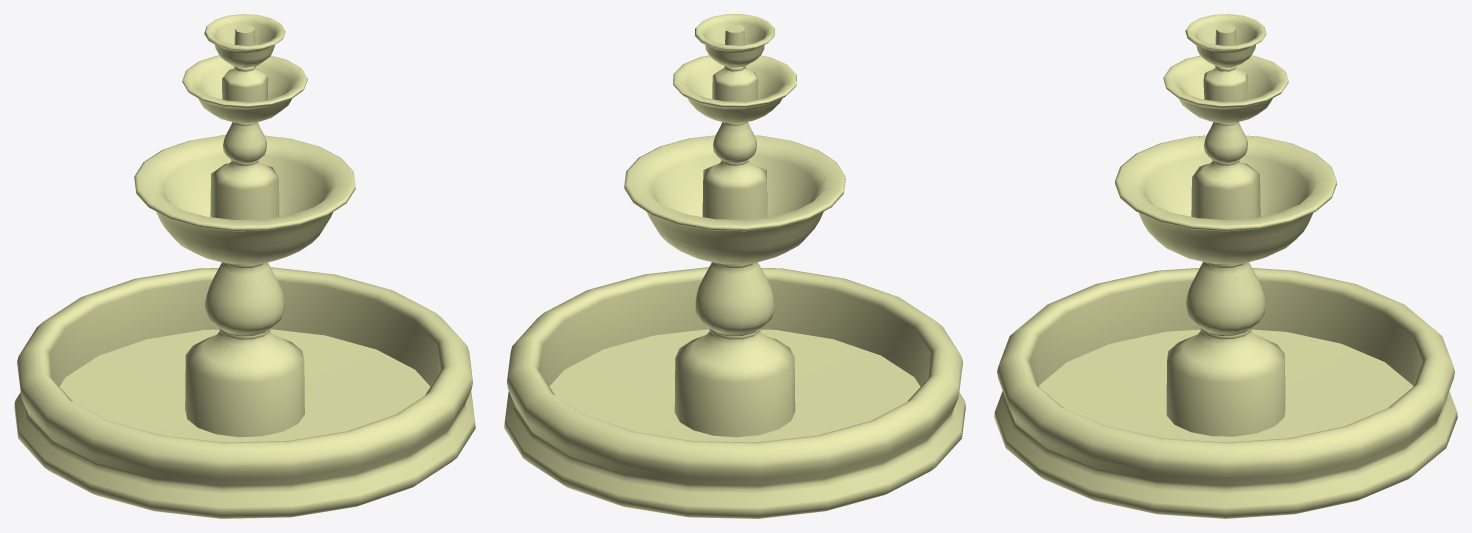
The model's file is Fountain_4.fbx.
3 views of the same model, side by side, from view 1: azimuth 30°, elevation 25°; view 2: azimuth 150°, elevation 25°; view 3: azimuth 270°, elevation 25° (orthographic).
Parts seen in each view (by area): view 1: Fountain_4; view 2: Fountain_4; view 3: Fountain_4.
Part boxes in pixels (left/top/right/bottom): Fountain_4: left=14, top=14, right=475, bottom=518; Fountain_4: left=504, top=14, right=965, bottom=518; Fountain_4: left=994, top=14, right=1457, bottom=518.
Bounding box in the file's own units: 202 × 191 × 202.
